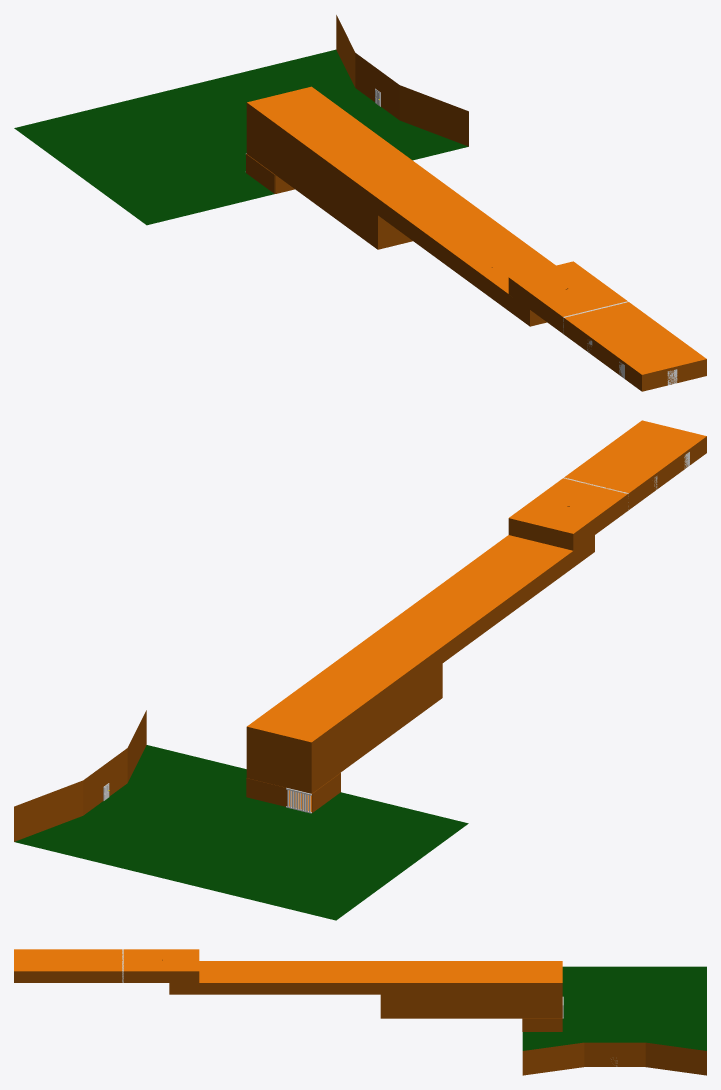
The model's file is Level 3 (Scene 2).fbx.
3 views of the same model, one above another, from view 1: azimuth 30°, elevation 25°; view 2: azimuth 150°, elevation 25°; view 3: azimuth 270°, elevation 25° (orthographic). The views are drawn at different scales.
Visible parts, largest first — view 1: Plane, House.001, House; view 2: Plane, House.001, House; view 3: House.001, Plane, House.
Part boxes in pixels (bbox=[...]): Plane: bbox=[14, 15, 468, 225]; House.001: bbox=[246, 86, 555, 326]; House: bbox=[508, 261, 706, 391]; Plane: bbox=[14, 710, 468, 920]; House.001: bbox=[246, 535, 594, 812]; House: bbox=[508, 420, 706, 550]; House.001: bbox=[169, 961, 562, 1031]; Plane: bbox=[522, 966, 706, 1075]; House: bbox=[14, 949, 199, 982].
Bounding box in the file's own units: 19977 × 5198 × 53636.
